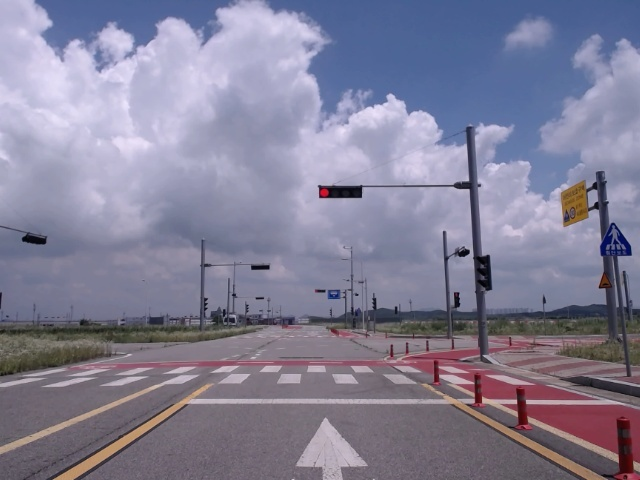red_4: (319, 186, 362, 198)
